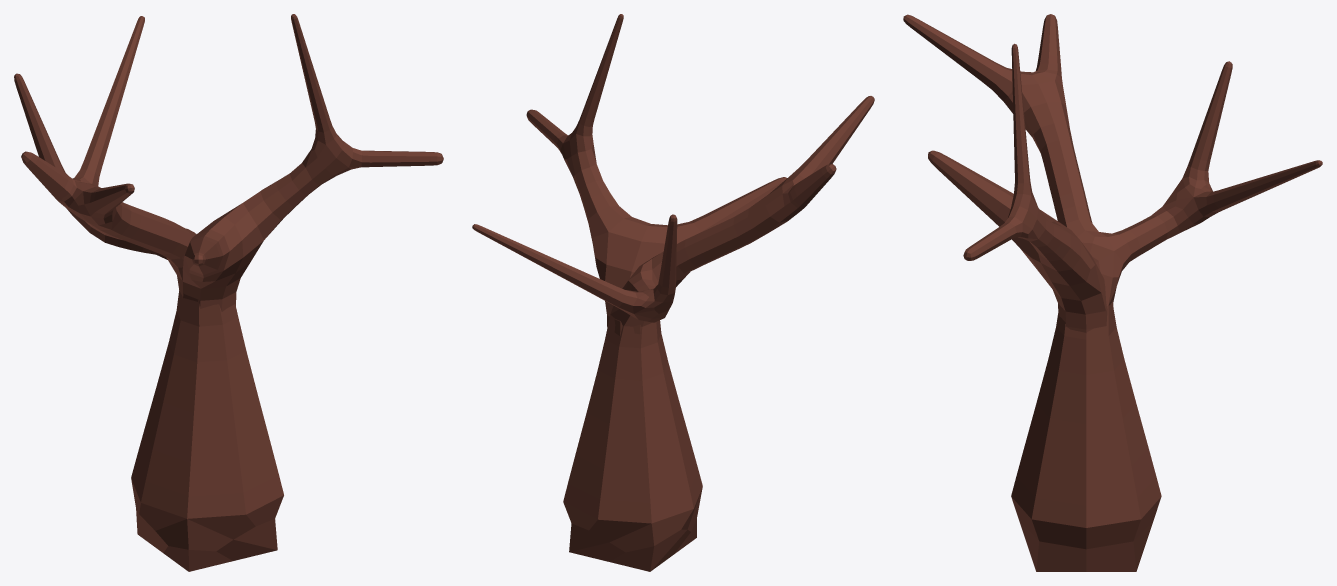
File: Tree_3.fbx
The picture shows the model from 3 angles, left to right: view 1: azimuth 30°, elevation 25°; view 2: azimuth 150°, elevation 25°; view 3: azimuth 270°, elevation 25°; orthographic projection. The views are drawn at different scales.
Parts seen in each view (by area): view 1: Plane.001; view 2: Plane.001; view 3: Plane.001.
Part boxes in pixels (<box>): Plane.001: <box>14,14,443,571</box>; Plane.001: <box>472,14,874,571</box>; Plane.001: <box>903,14,1322,571</box>.
Bounding box in the file's own units: 574 × 784 × 562.
